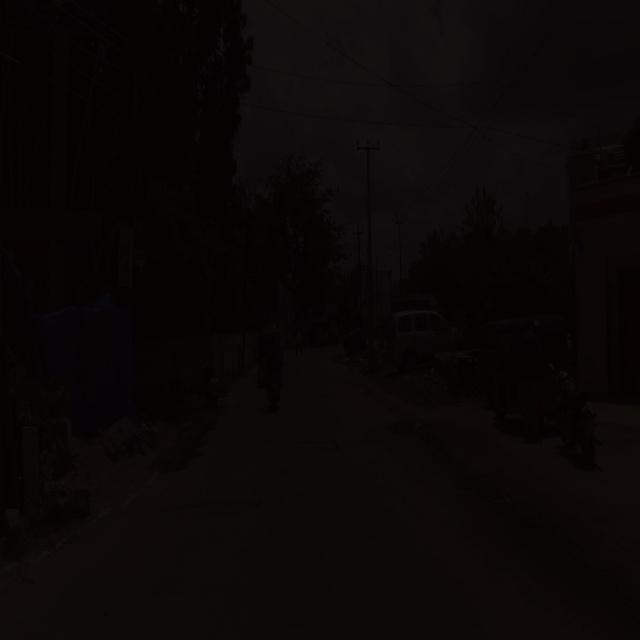Pothole: (162, 493, 286, 528), (292, 426, 351, 462)
